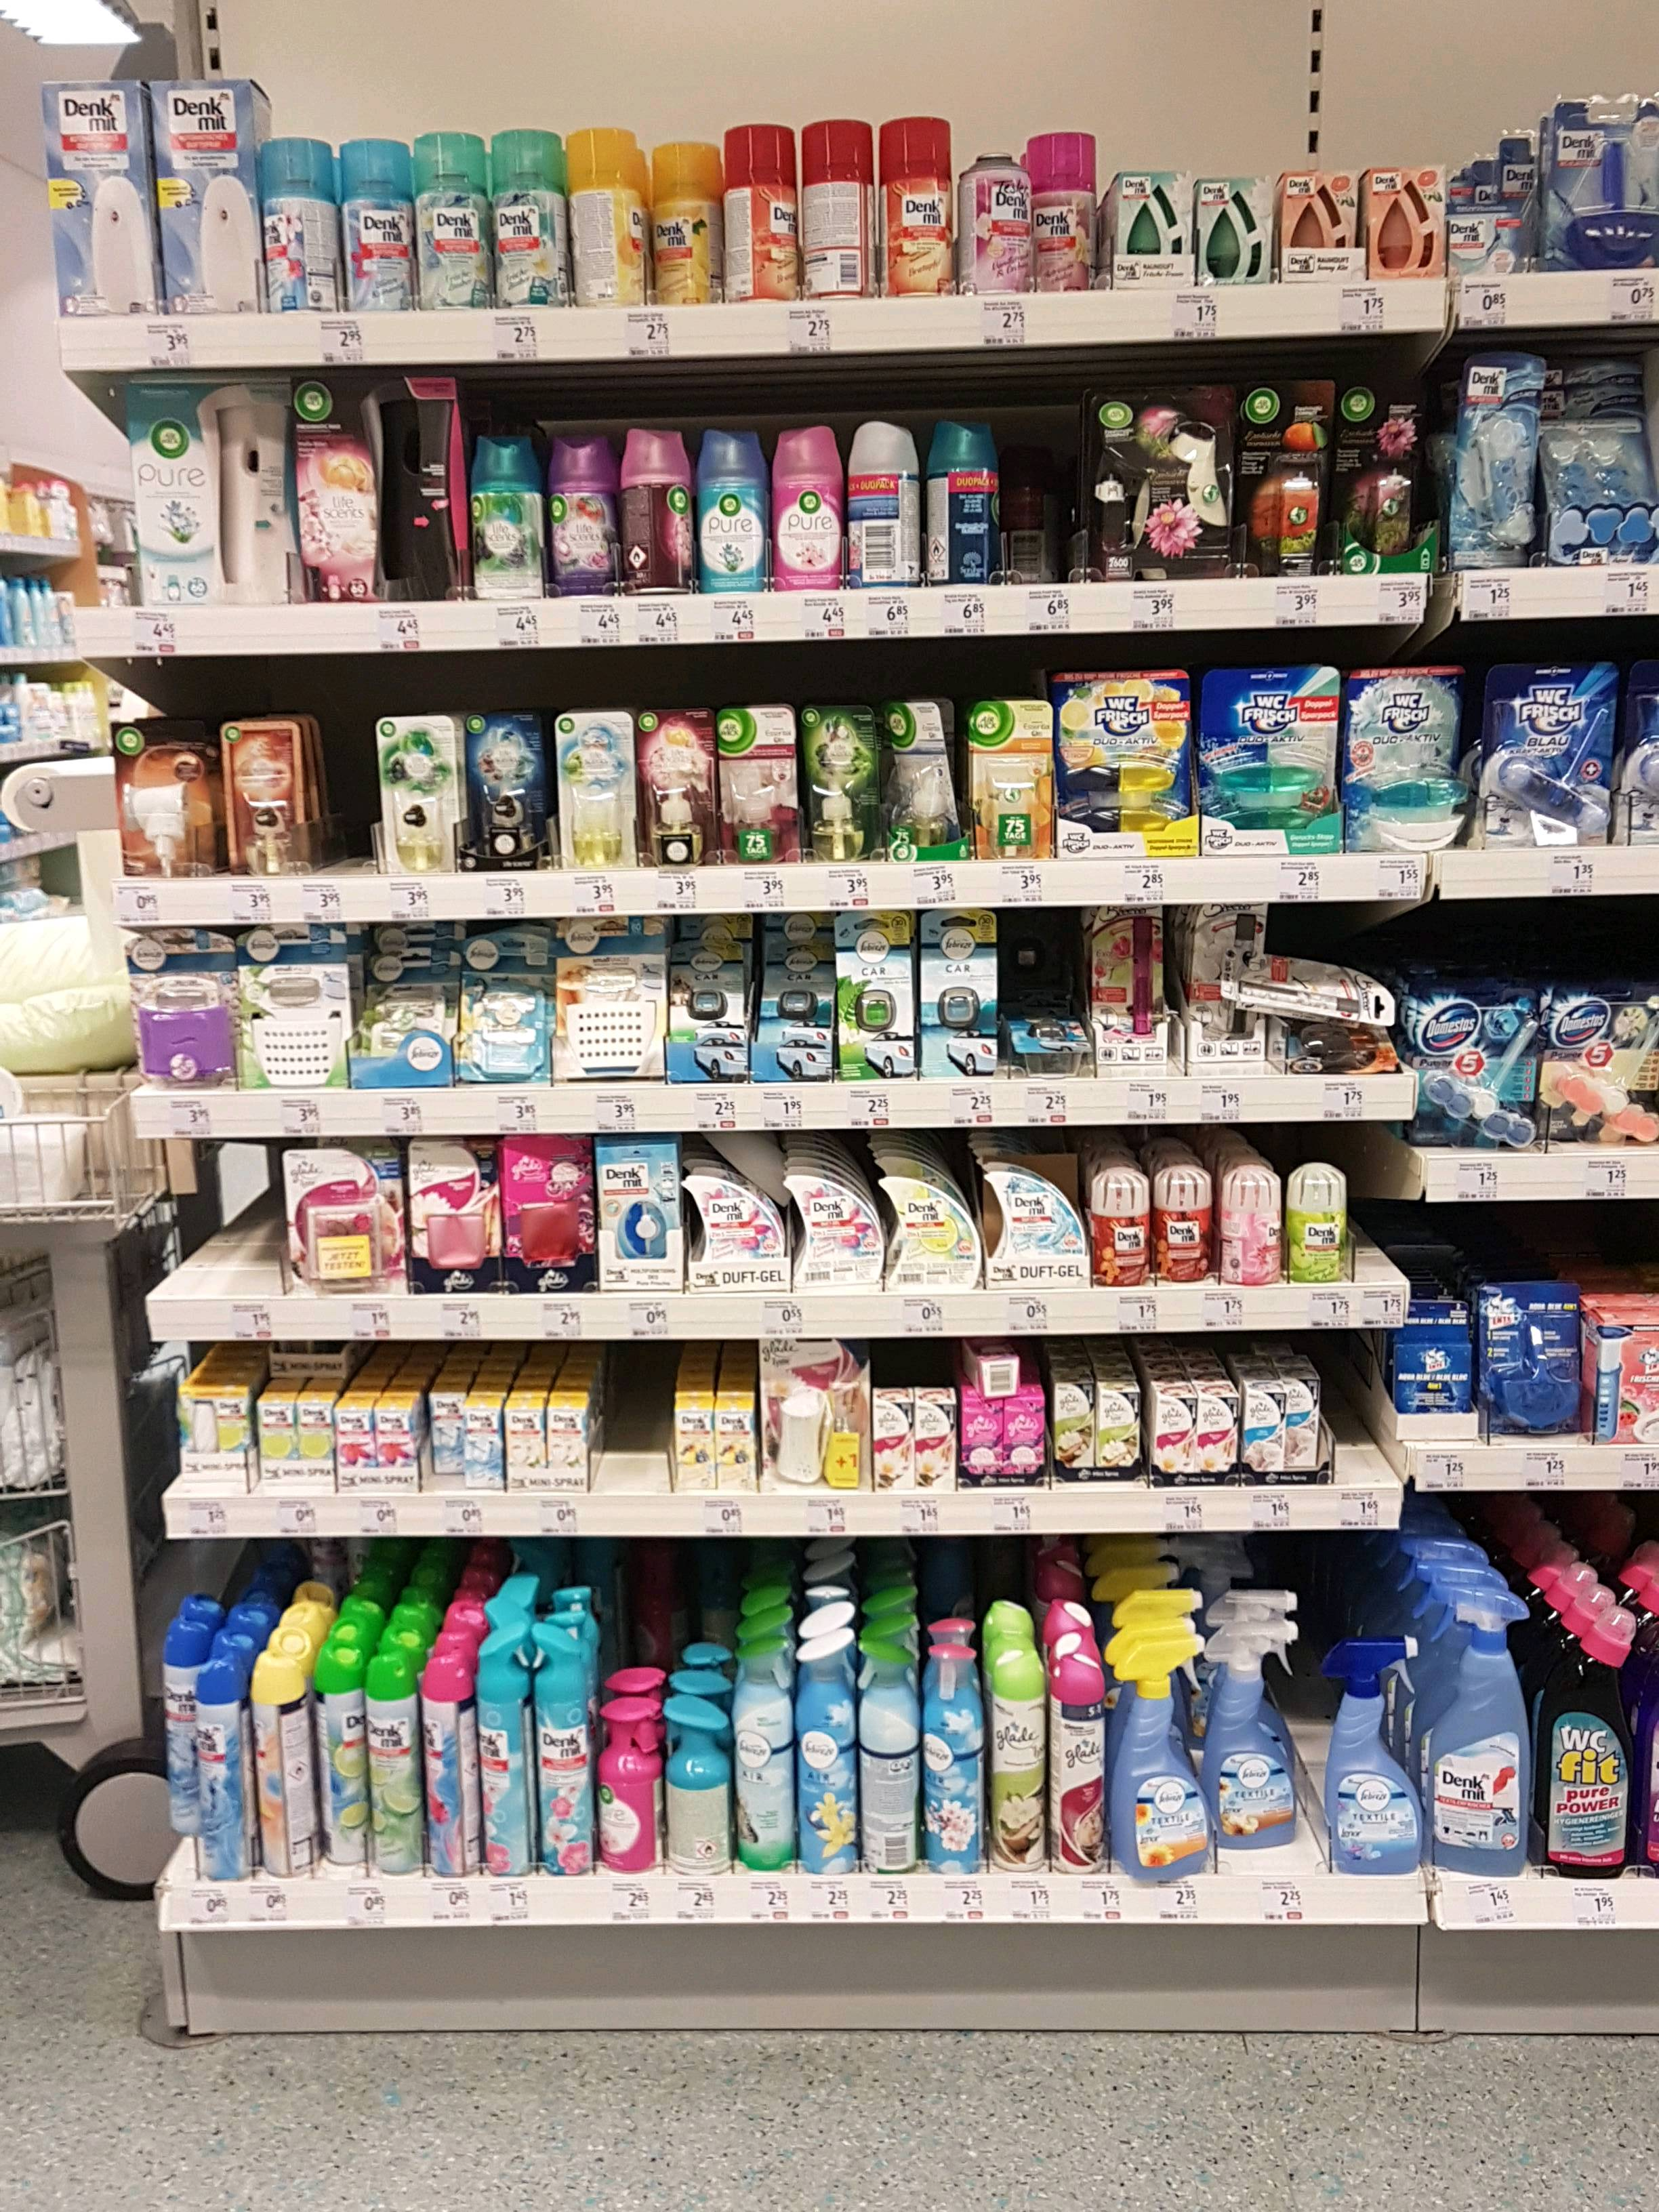Misplacement: (1211, 1615, 1316, 1874)
Out-of-stock: (617, 1341, 671, 1489)
